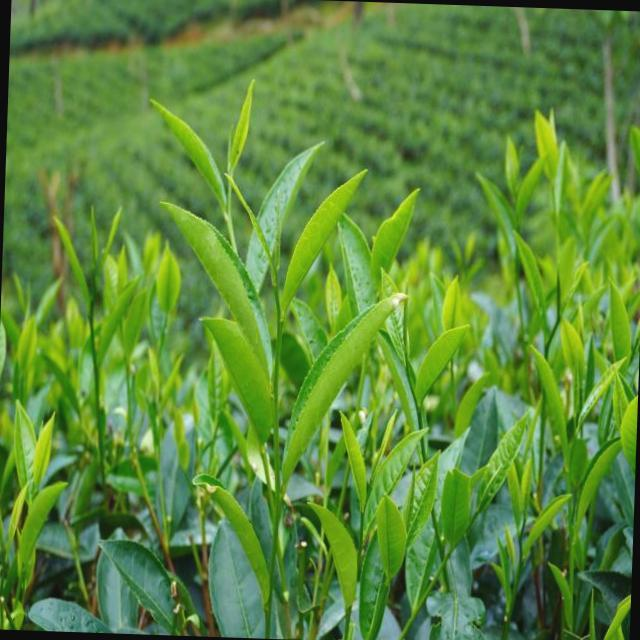Stem: (278, 320, 284, 330), (225, 215, 231, 221), (360, 512, 364, 521), (417, 405, 421, 414), (519, 536, 522, 541)
